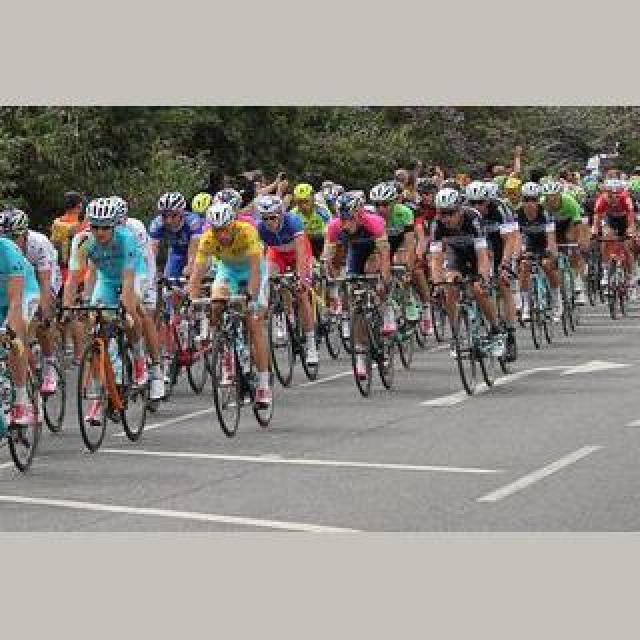MC-Bike: (68, 198, 152, 412), (184, 190, 266, 402), (324, 190, 396, 362), (430, 192, 504, 356), (256, 194, 318, 372), (148, 192, 202, 366), (466, 188, 520, 344), (0, 206, 58, 328), (512, 186, 560, 328), (588, 176, 640, 298), (540, 176, 584, 318)
Person: (68, 302, 150, 450), (196, 290, 266, 436), (7, 326, 65, 478), (318, 262, 380, 384), (444, 272, 500, 396), (344, 272, 398, 396), (152, 276, 196, 402), (266, 276, 308, 388), (494, 260, 524, 374)
